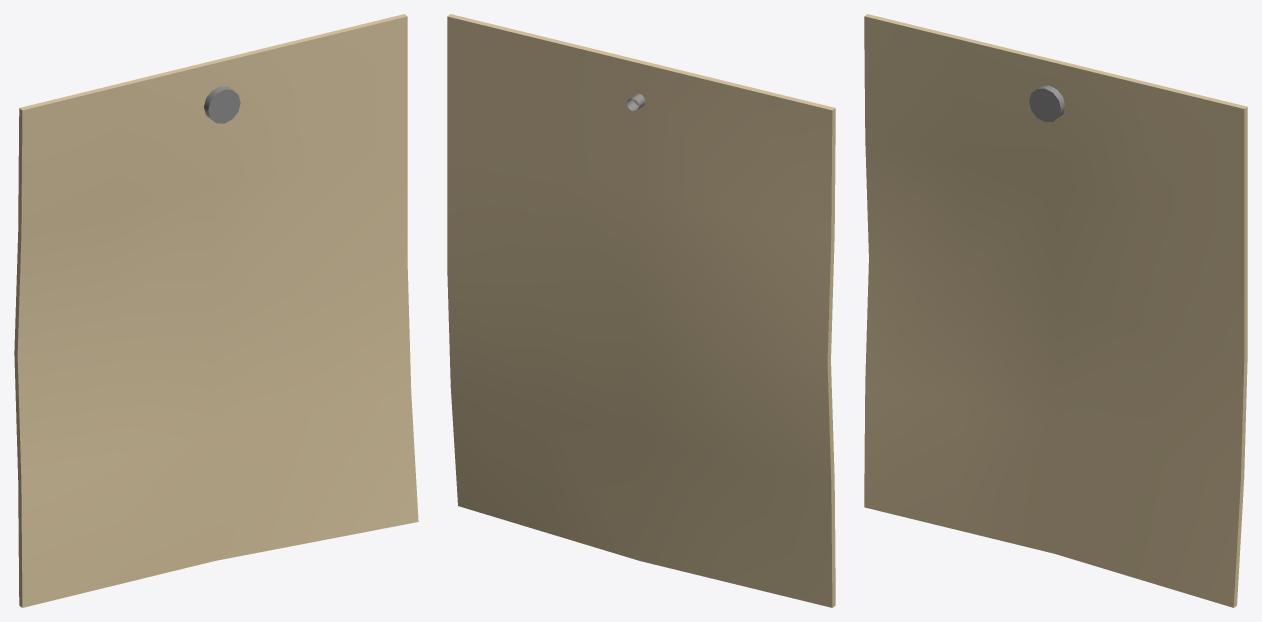
Rendered from note.fbx.
3 renders of one model, left to right at view 1: azimuth 30°, elevation 25°; view 2: azimuth 150°, elevation 25°; view 3: azimuth 330°, elevation 25°, orthographic.
Parts seen in each view (by area): view 1: Plane, Cylinder; view 2: Plane; view 3: Plane, Cylinder.
Part boxes in pixels (x1,y1,x2,y2): Plane: (14,14,418,607); Cylinder: (204,86,240,123); Plane: (447,14,835,607); Plane: (864,14,1247,607); Cylinder: (1029,85,1065,121).
Bounding box in the file's own units: 200 × 247 × 21.46.
